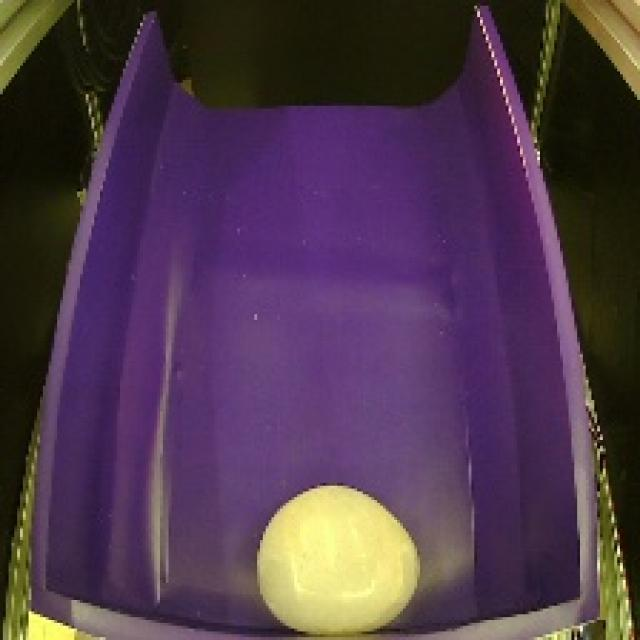cobbles: (247, 477, 425, 639)
